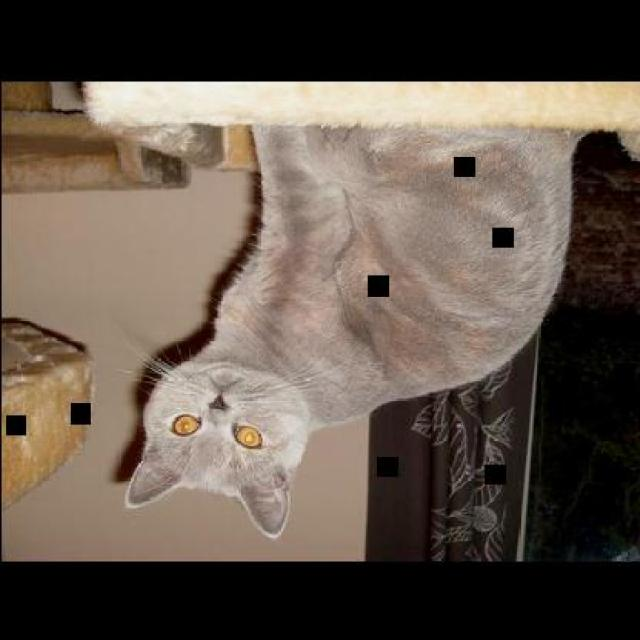unauthorized: (120, 121, 586, 538)
